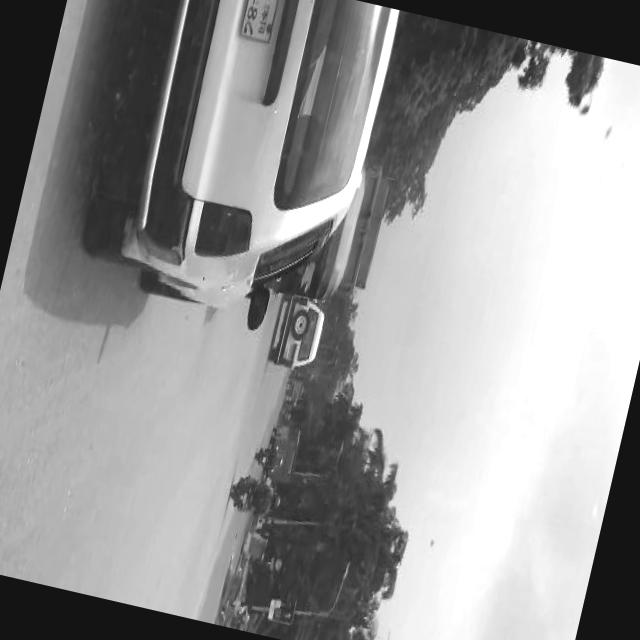bus: (266, 424, 302, 460)
car: (62, 0, 401, 337), (264, 293, 328, 376)
motorcycle: (292, 219, 354, 313), (222, 470, 284, 522), (250, 446, 284, 478)
